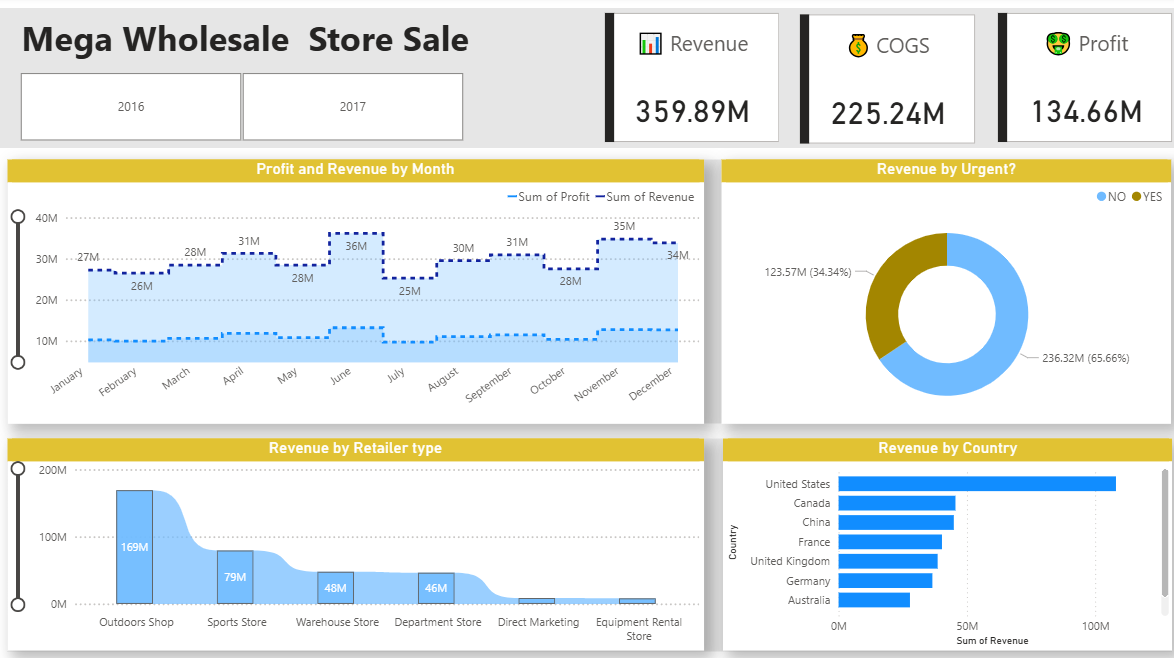

What the dashboard file says about the page in this screenshot:
{"tool":"powerbi","page":{"name":"MainDashboard","canvas":[1280,720],"ordinal":0},"visuals":[{"type":"cardVisual","fields":{"Data":["Sum(Sales Table.Revenue)"]},"box":[654,13.3,199.1,150.3],"z":0,"group":"g3"},{"type":"group","id":"g1","title":"SecondaryLayer 1","box":[11.7,176.7,1263.3,286.7],"z":0},{"type":"areaChart","title":" Profit and Revenue by Month","fields":{"Y":["Sum(Sales Table.Profit)","Sum(Sales Table.Revenue)"],"Category":["Sales Table.Date.Variation.Date Hierarchy.Month"]},"box":[11.7,176.7,755,286.7],"z":0,"group":"g1"},{"type":"ribbonChart","title":" Revenue by Retailer type","fields":{"Category":["Sales Table.Retailer type"],"Y":["Sum(Sales Table.Revenue)"]},"box":[11.7,480,755,230],"z":0,"group":"g2"},{"type":"cardVisual","fields":{"Data":["Sum(Sales Table.Profit)"]},"box":[865.3,13.9,200,150],"z":1000,"group":"g3"},{"type":"donutChart","title":"Revenue by Urgent?","fields":{"Y":["Sum(Sales Table.Revenue)"],"Category":["Sales Table.Urgent?"]},"box":[786.7,176.7,488.3,286.7],"z":1000,"group":"g1"},{"type":"group","id":"g2","title":"Secondary layer 2","box":[11.7,480,1263.3,230],"z":1000},{"type":"MapBySquillion","title":"Revenue by Country","fields":{"category":["Country Table.Country"],"value":["Sum(Sales Table.Revenue)"]},"box":[787,480,488,230],"z":1000,"group":"g2"},{"type":"group","id":"g3","title":"Group 1","box":[0,13,1280.1,150.9],"z":2000},{"type":"cardVisual","title":"kljk","fields":{"Data":["Sum(Sales Table.Profit)"]},"box":[1080,13,200.1,150],"z":2000,"group":"g3"},{"type":"textbox","box":[11.4,14.6,554.7,61.8],"z":3000,"group":"g3"},{"type":"slicer","fields":{"Values":["Sales Table.Date.Variation.Date Hierarchy.Year"]},"box":[0,76.7,529.2,86.9],"z":4000,"group":"g3"}]}

Visuals, with their boxes in screenshot pixels (x1, y1, x2, y2), scaled from the page's 1280x720 canvas onto the 1174x658 screenshot:
cardVisual - Sum(Sales Table.Revenue): bbox=[600, 12, 782, 150]
"SecondaryLayer 1" group: bbox=[11, 161, 1169, 423]
" Profit and Revenue by Month" areaChart: bbox=[11, 161, 703, 423]
" Revenue by Retailer type" ribbonChart: bbox=[11, 439, 703, 649]
cardVisual - Sum(Sales Table.Profit): bbox=[794, 13, 977, 150]
"Revenue by Urgent?" donutChart: bbox=[722, 161, 1169, 423]
"Secondary layer 2" group: bbox=[11, 439, 1169, 649]
"Revenue by Country" MapBySquillion: bbox=[722, 439, 1169, 649]
"Group 1" group: bbox=[0, 12, 1173, 150]
"kljk" cardVisual: bbox=[991, 12, 1173, 149]
textbox: bbox=[10, 13, 519, 70]
slicer - Sales Table.Date.Variation.Date Hierarchy.Year: bbox=[0, 70, 485, 150]
